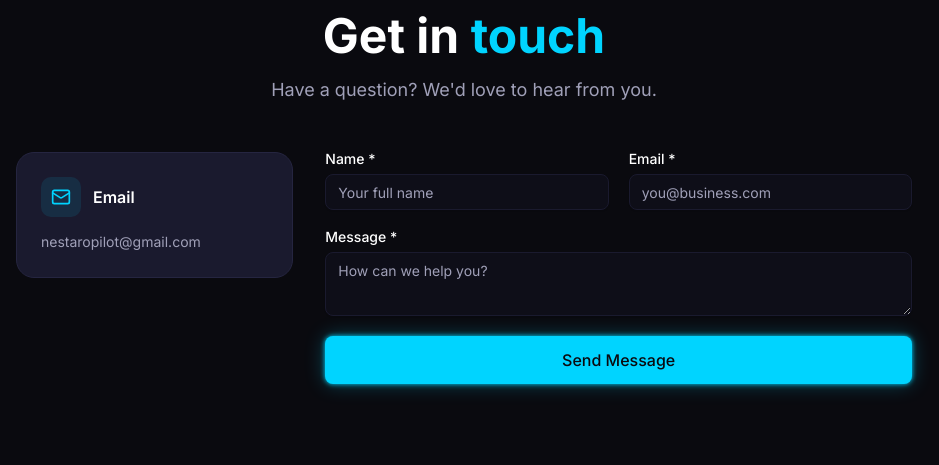
Test: Contact › shows success message on successful submission
The image size is (939, 465).
Type "John" into the field labelled "Name *". click: (467, 192)
box: [325, 174, 609, 210]
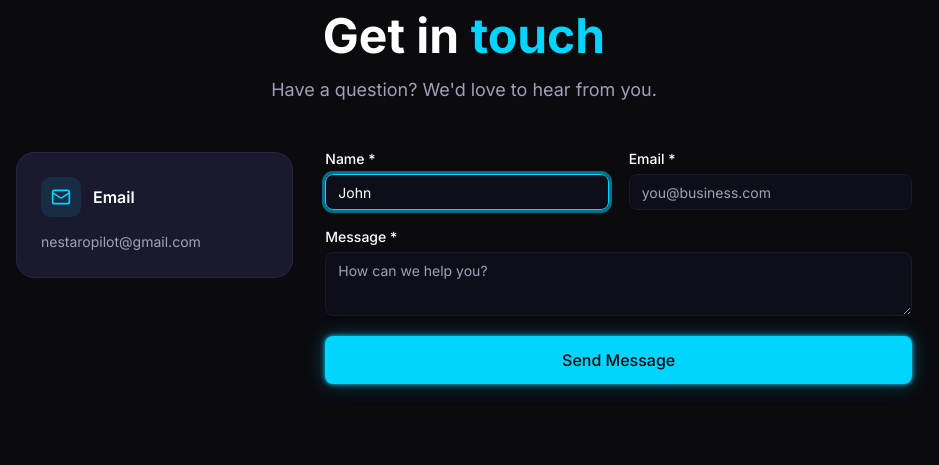
Type "john@test.com" into the field labelled "Email *". click: (770, 192)
box: [629, 174, 912, 210]
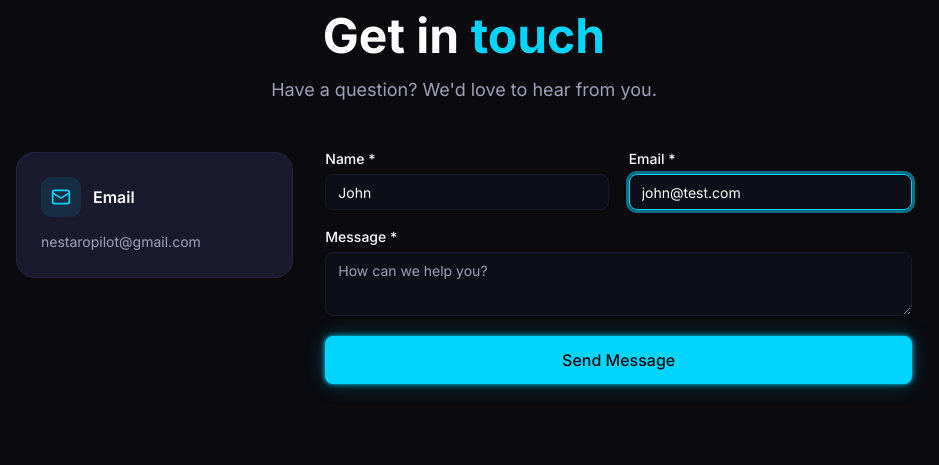
Type "I have a question about your service." into the text box labelled "Message *". click: (619, 284)
box: [325, 252, 912, 316]
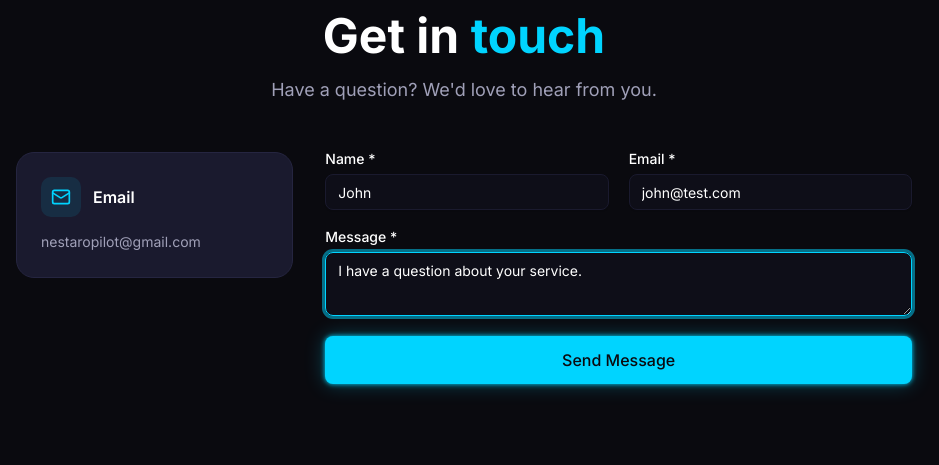
Click the button "Send Message". click: (619, 360)
box: [325, 336, 912, 384]
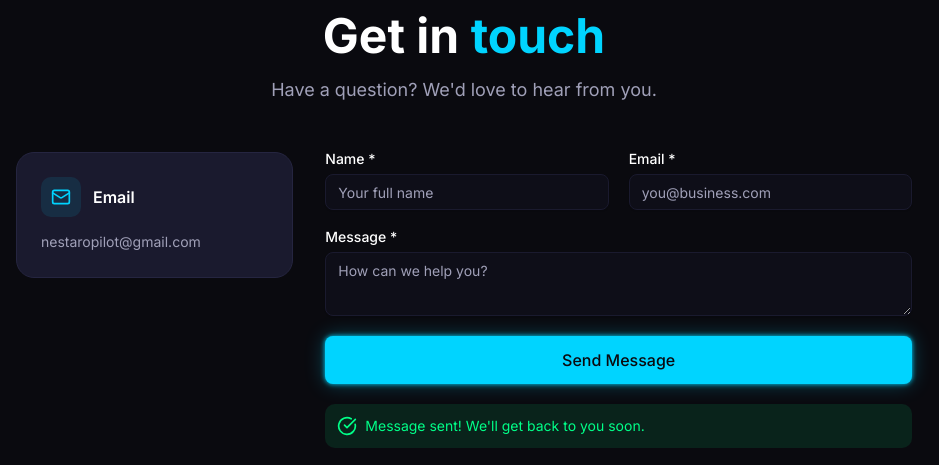
Check: the text "Message sent! We'll get back to you soon." is shown, box [365, 416, 645, 436]
